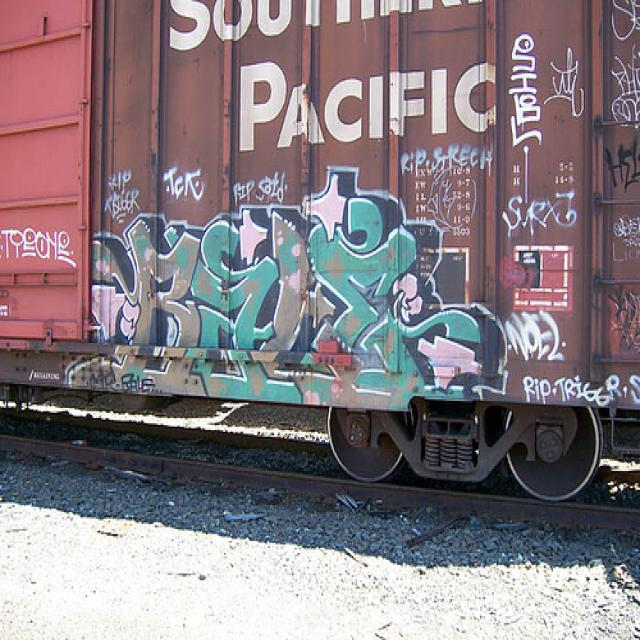train: (1, 1, 638, 511)
